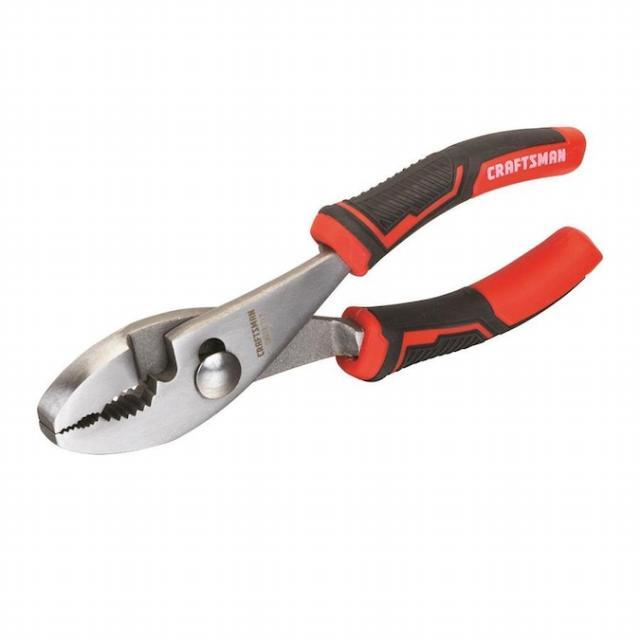pliers: (28, 117, 607, 460)
